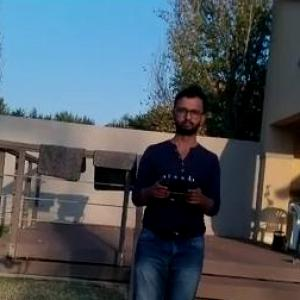follow: (124, 78, 224, 298)
